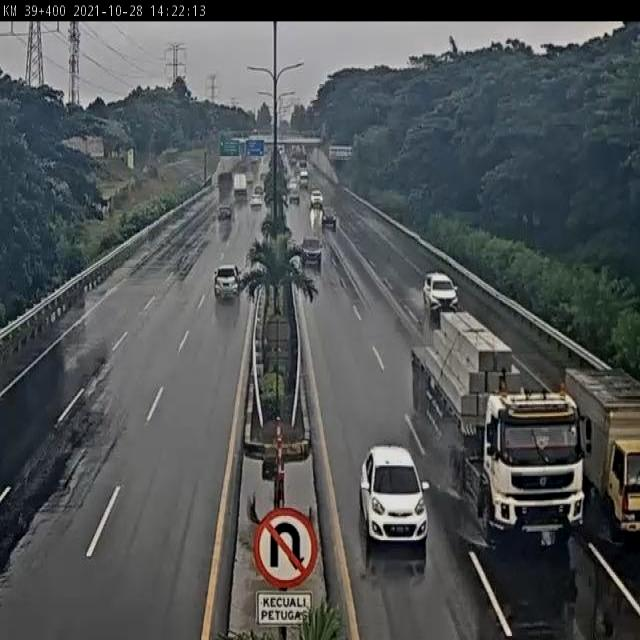Car: (354, 442, 432, 553), (423, 272, 462, 318), (212, 264, 244, 300), (299, 234, 323, 266), (321, 203, 337, 227), (309, 189, 324, 207), (250, 194, 263, 210), (289, 188, 301, 205)
Truck: (407, 310, 595, 549), (561, 358, 640, 542), (233, 171, 250, 198)
